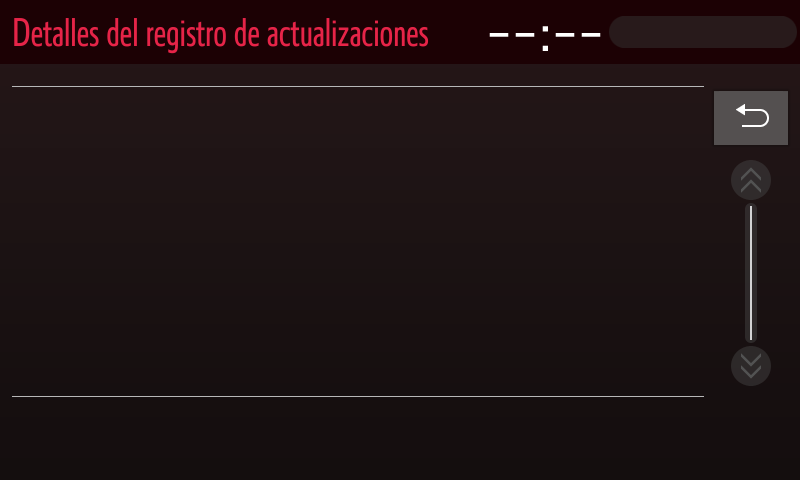touchPart: (712, 87, 792, 146)
untouchPart: (9, 78, 711, 406), (14, 12, 433, 48), (484, 10, 792, 55), (728, 345, 774, 390), (730, 157, 772, 202)
